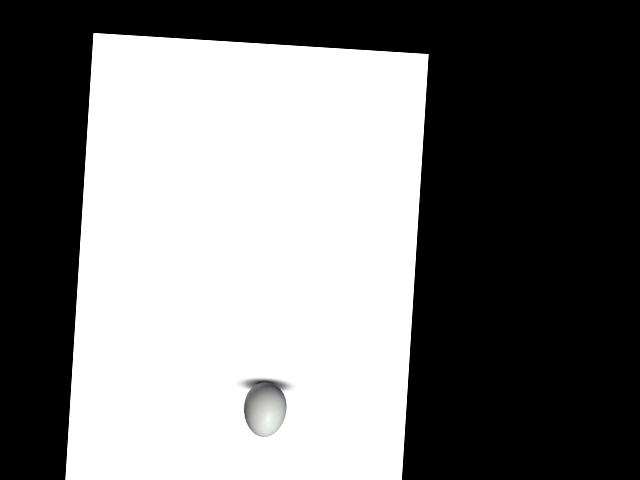egg: (243, 381, 288, 438)
